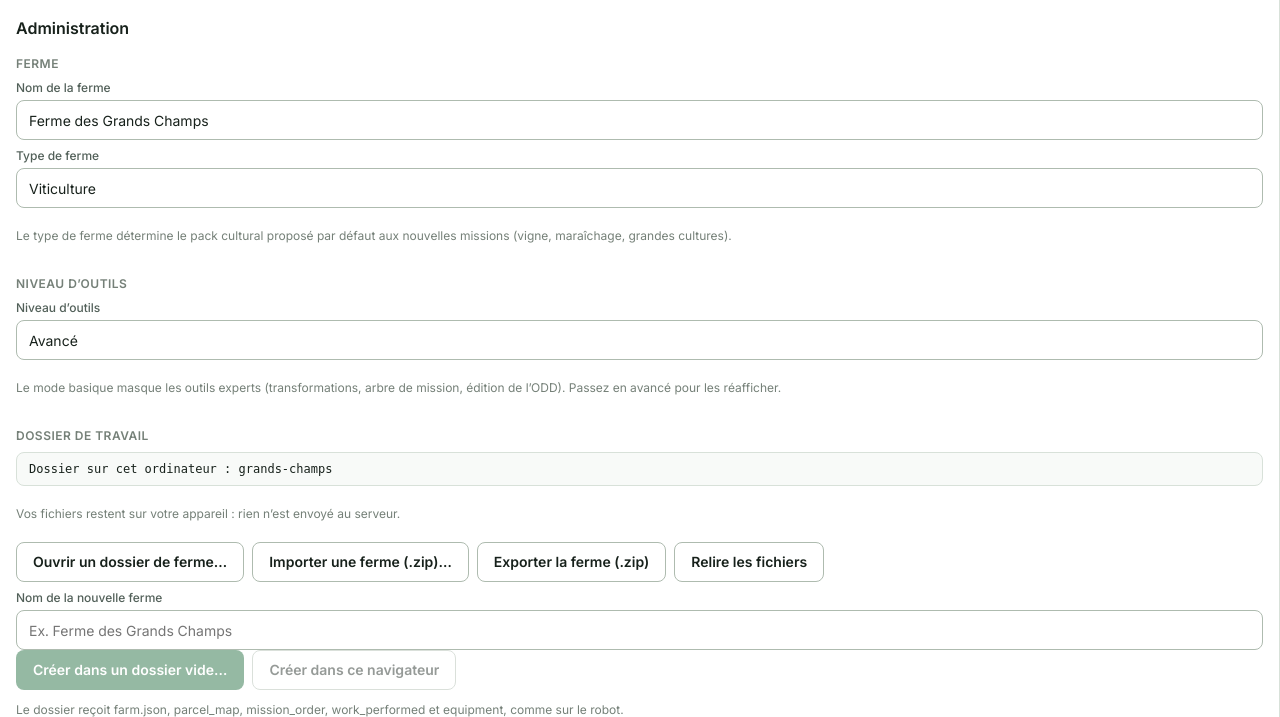
administration saves through the farm API › reports a refused save instead of pretending it worked
The width and height of the screenshot is (1280, 717).
Replace the text in the field labelled "Nom de la ferme" with "x" at (640,120), box top-left (17, 101), bottom-right (1262, 139)
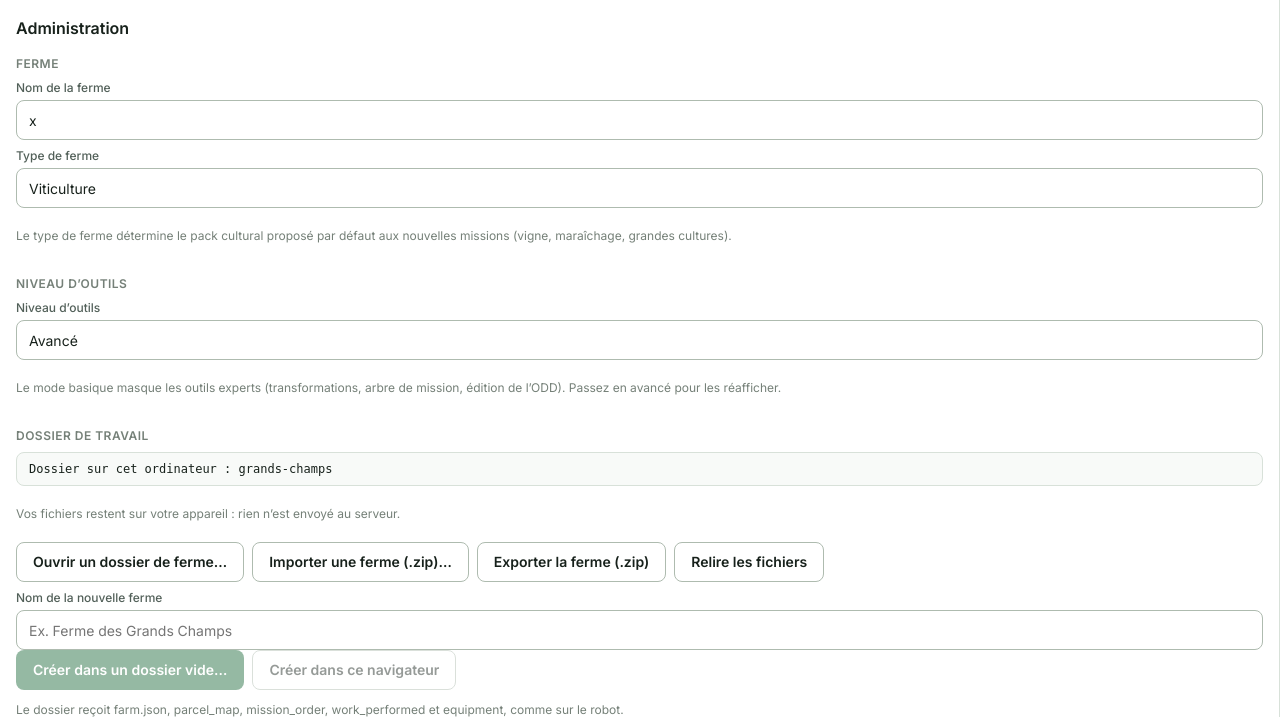
Leave the field labelled "Nom de la ferme", box top-left (17, 101), bottom-right (1262, 139)
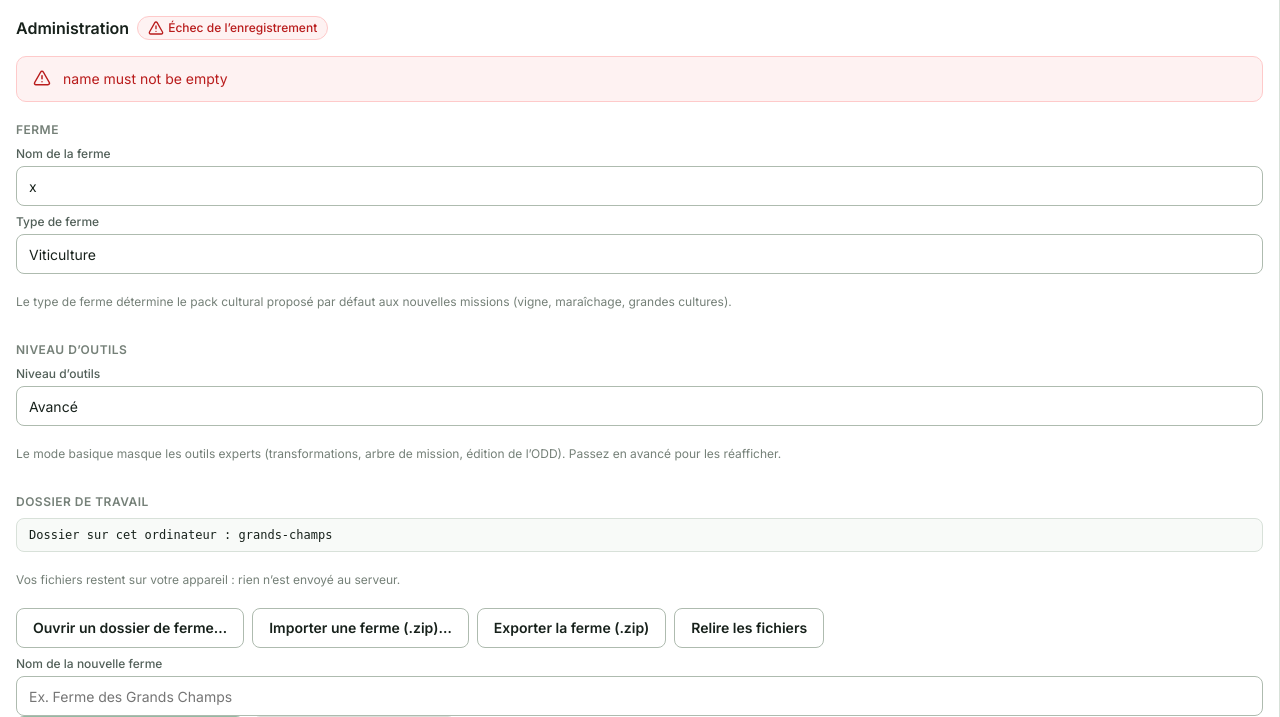
Check: the text "name must not be empty" is shown, box top-left (63, 69), bottom-right (228, 89)
Check: the text "Échec de l’enregistrement" is shown, box top-left (137, 16), bottom-right (328, 40)
